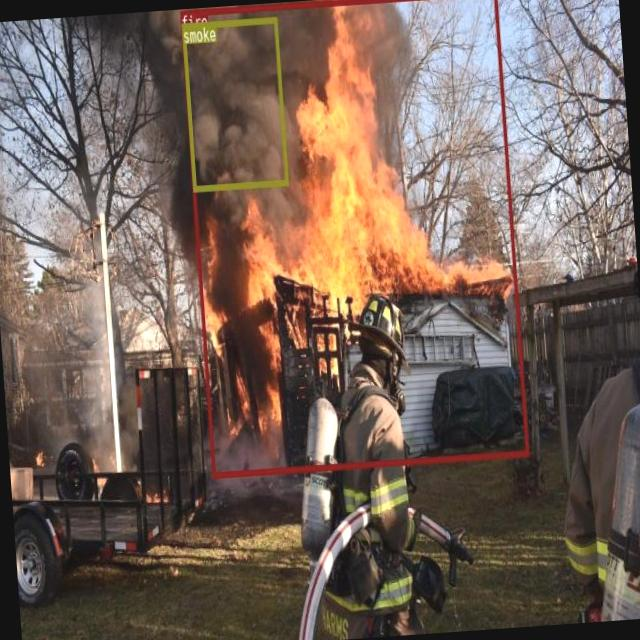fire: (179, 0, 528, 476)
smoke: (180, 16, 286, 190)
